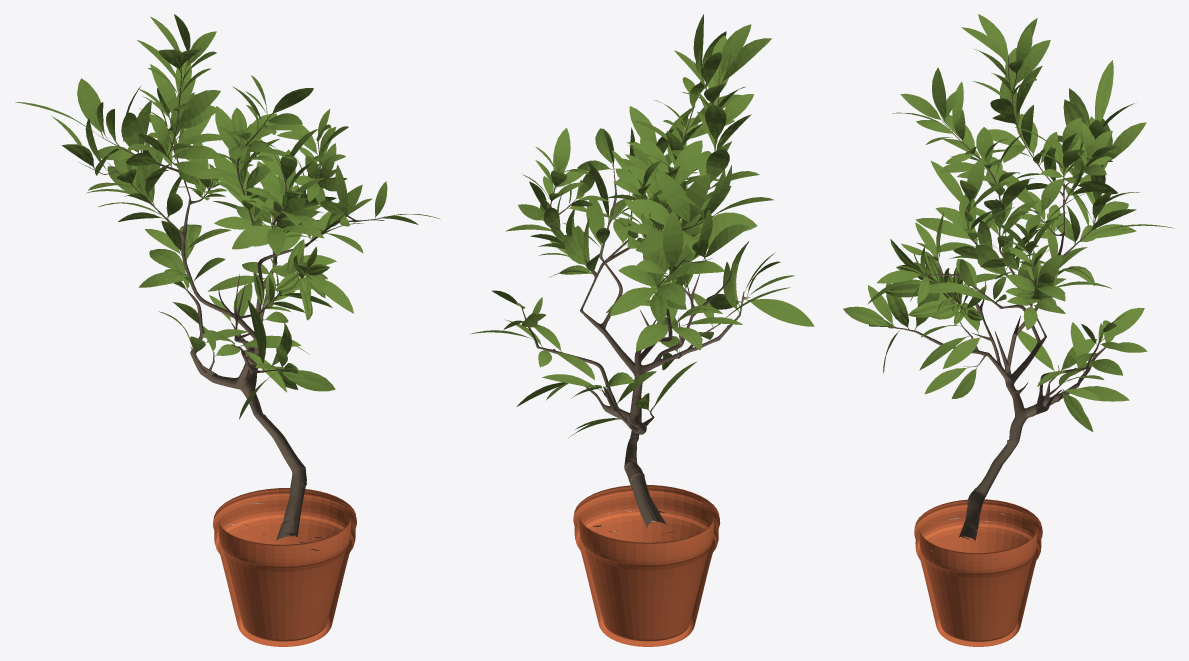
The model's file is Potted_Tree.glb.
3 renders of one model, left to right at view 1: azimuth 30°, elevation 25°; view 2: azimuth 150°, elevation 25°; view 3: azimuth 270°, elevation 25°, orthographic. The views are drawn at different scales.
Parts seen in each view (by area): view 1: ec1bd4cf-80c1-4843-b03e-1e52b15dd965_mesh, c6d9e22d-b1e9-4746-a222-e33ef952e1df_mesh, 5584a838-e3c4-413b-aa46-21f58b8da36d_mesh, 32985ba5-0ad3-4579-9491-1049717e8774_mesh, c07f161b-ca3d-447b-86ec-6fbbdec9686e_mesh, 5348a273-81f3-4836-be42-2e89b5bd85ab_mesh; view 2: c6d9e22d-b1e9-4746-a222-e33ef952e1df_mesh, ec1bd4cf-80c1-4843-b03e-1e52b15dd965_mesh, 5584a838-e3c4-413b-aa46-21f58b8da36d_mesh, 32985ba5-0ad3-4579-9491-1049717e8774_mesh, c07f161b-ca3d-447b-86ec-6fbbdec9686e_mesh, 5348a273-81f3-4836-be42-2e89b5bd85ab_mesh; view 3: ec1bd4cf-80c1-4843-b03e-1e52b15dd965_mesh, c6d9e22d-b1e9-4746-a222-e33ef952e1df_mesh, 5584a838-e3c4-413b-aa46-21f58b8da36d_mesh, c07f161b-ca3d-447b-86ec-6fbbdec9686e_mesh, 32985ba5-0ad3-4579-9491-1049717e8774_mesh, 5348a273-81f3-4836-be42-2e89b5bd85ab_mesh.
Boxes of the visible parts, x1,y1,x2,y2 form: ec1bd4cf-80c1-4843-b03e-1e52b15dd965_mesh: (19, 14, 386, 255); c6d9e22d-b1e9-4746-a222-e33ef952e1df_mesh: (213, 488, 356, 646); 5584a838-e3c4-413b-aa46-21f58b8da36d_mesh: (102, 31, 437, 419); 32985ba5-0ad3-4579-9491-1049717e8774_mesh: (95, 87, 439, 303); c07f161b-ca3d-447b-86ec-6fbbdec9686e_mesh: (15, 14, 387, 242); 5348a273-81f3-4836-be42-2e89b5bd85ab_mesh: (79, 42, 384, 540); c6d9e22d-b1e9-4746-a222-e33ef952e1df_mesh: (573, 485, 720, 646); ec1bd4cf-80c1-4843-b03e-1e52b15dd965_mesh: (507, 14, 773, 305); 5584a838-e3c4-413b-aa46-21f58b8da36d_mesh: (470, 50, 814, 438); 32985ba5-0ad3-4579-9491-1049717e8774_mesh: (506, 128, 756, 350); c07f161b-ca3d-447b-86ec-6fbbdec9686e_mesh: (586, 14, 773, 275); 5348a273-81f3-4836-be42-2e89b5bd85ab_mesh: (519, 61, 750, 528); ec1bd4cf-80c1-4843-b03e-1e52b15dd965_mesh: (892, 14, 1145, 301); c6d9e22d-b1e9-4746-a222-e33ef952e1df_mesh: (914, 499, 1042, 646); 5584a838-e3c4-413b-aa46-21f58b8da36d_mesh: (843, 60, 1171, 431); c07f161b-ca3d-447b-86ec-6fbbdec9686e_mesh: (898, 14, 1146, 302); 32985ba5-0ad3-4579-9491-1049717e8774_mesh: (877, 99, 1173, 329); 5348a273-81f3-4836-be42-2e89b5bd85ab_mesh: (888, 54, 1105, 540).
Bounding box in the file's own units: 1.01 × 1.98 × 1.05.
